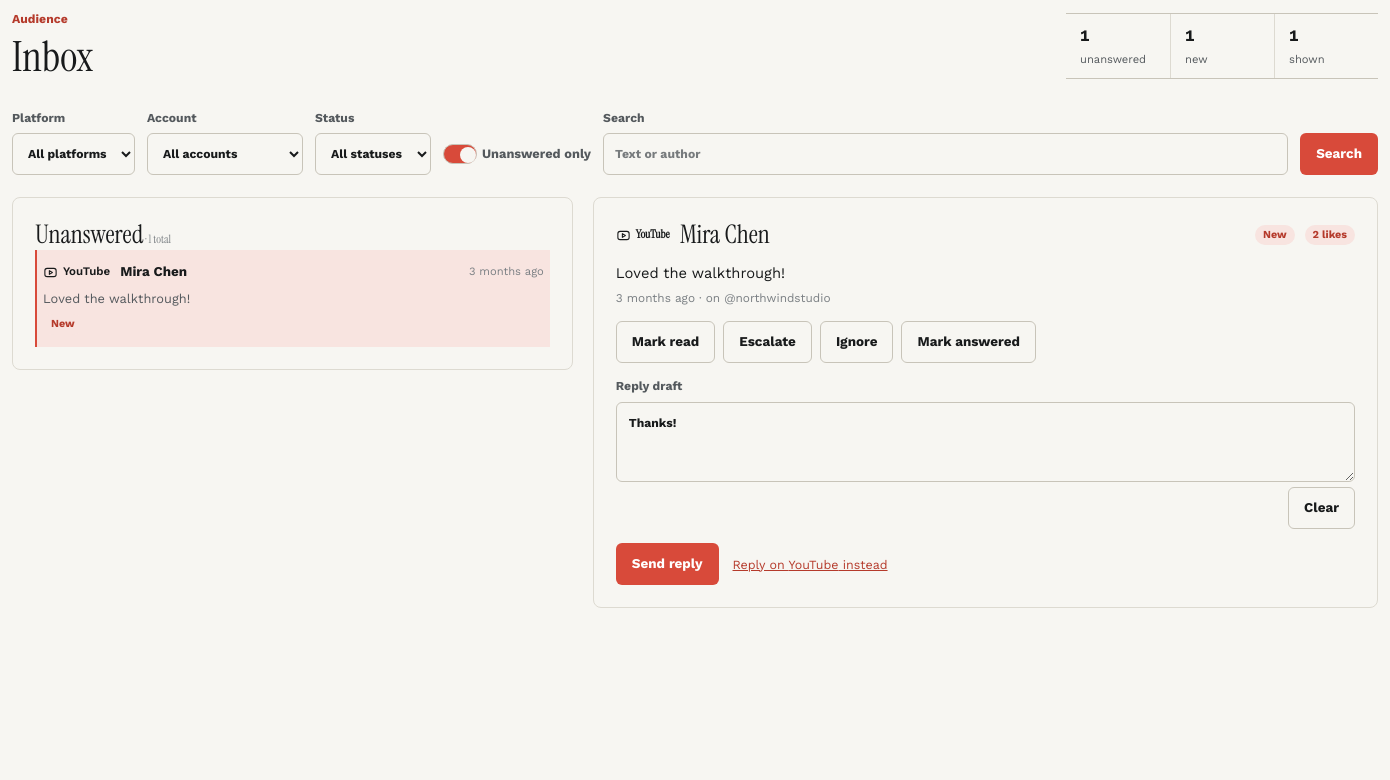
Test: InboxWorkspace › renders a warning, not success, for an unverified reply
What coordinates should you click on to do the following:
click the button "Send reply"
I would click on:
 (667, 564)
Its box is x1=616 y1=543 x2=718 y2=585.
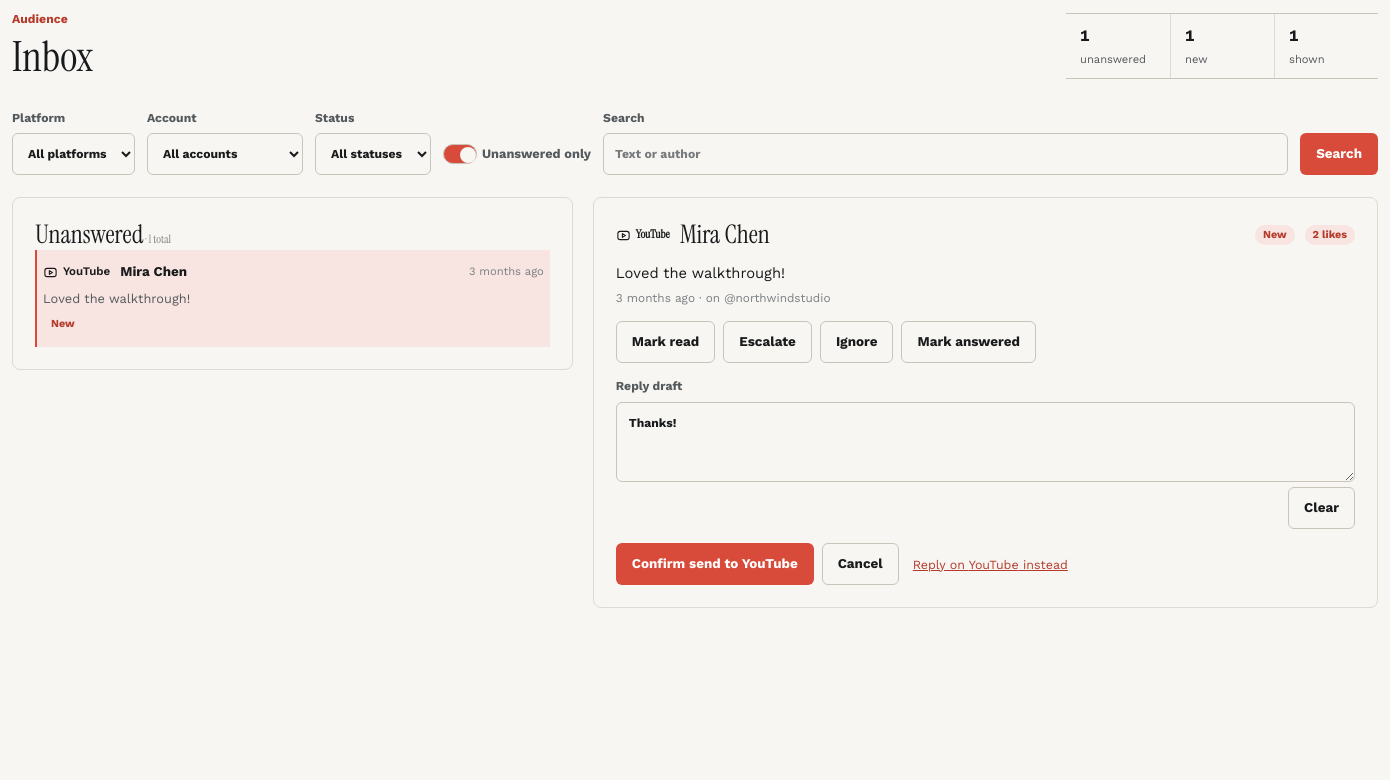
What coordinates should you click on to do the following:
click the button "Confirm send to YouTube"
I would click on:
 (715, 564)
Its box is x1=616 y1=543 x2=814 y2=585.
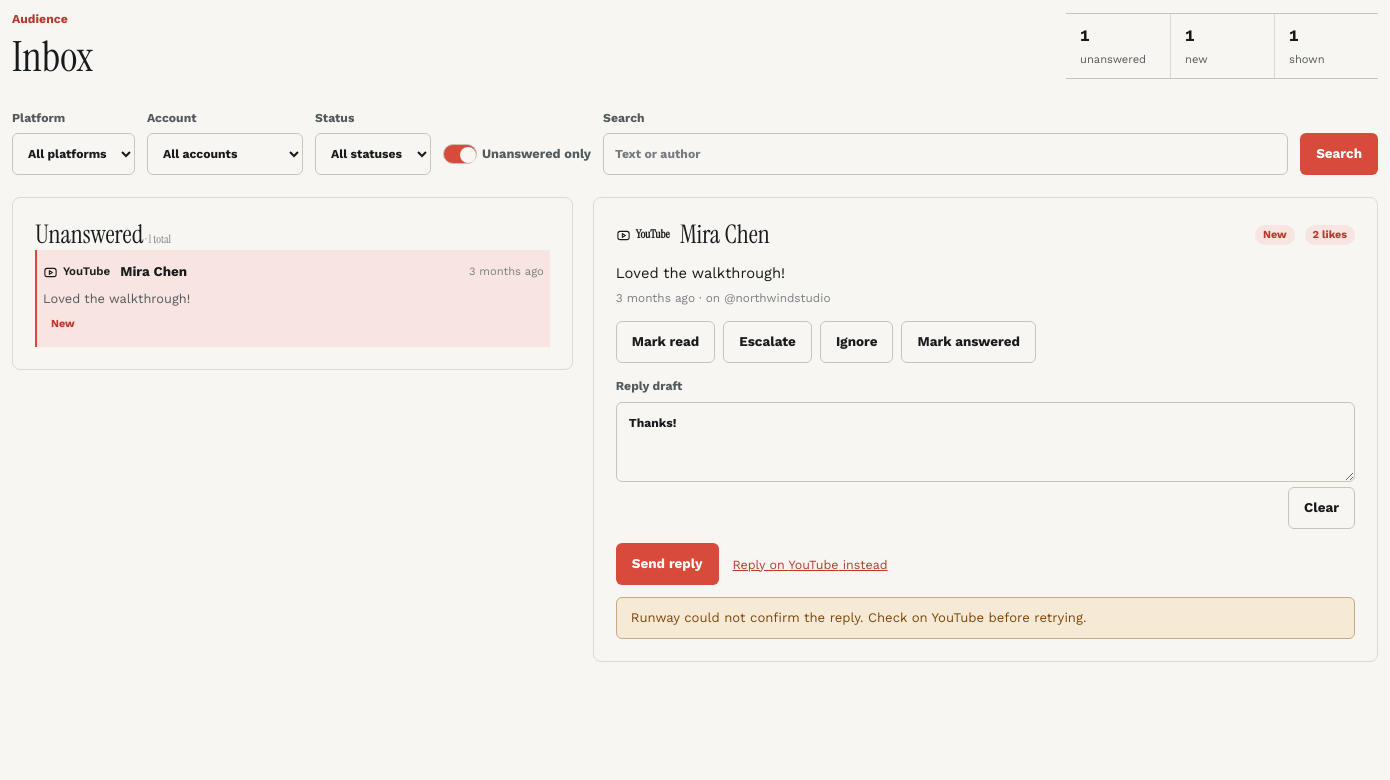
expect the text "Runway could not confirm the reply. Check on YouTube before retrying." is shown: met, box x1=616 y1=597 x2=1355 y2=639
